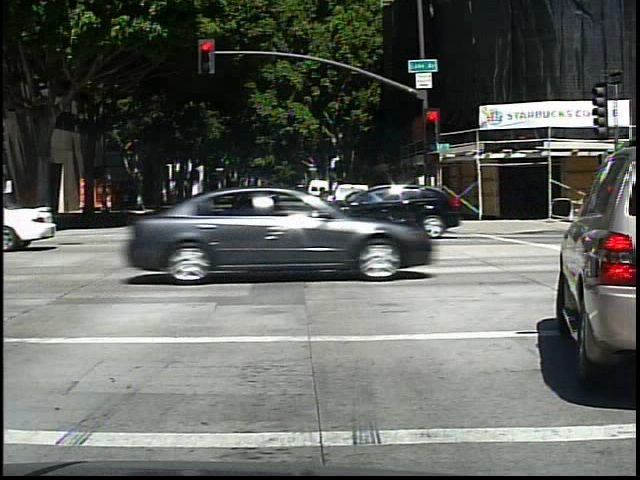person: (96, 186, 110, 220)
